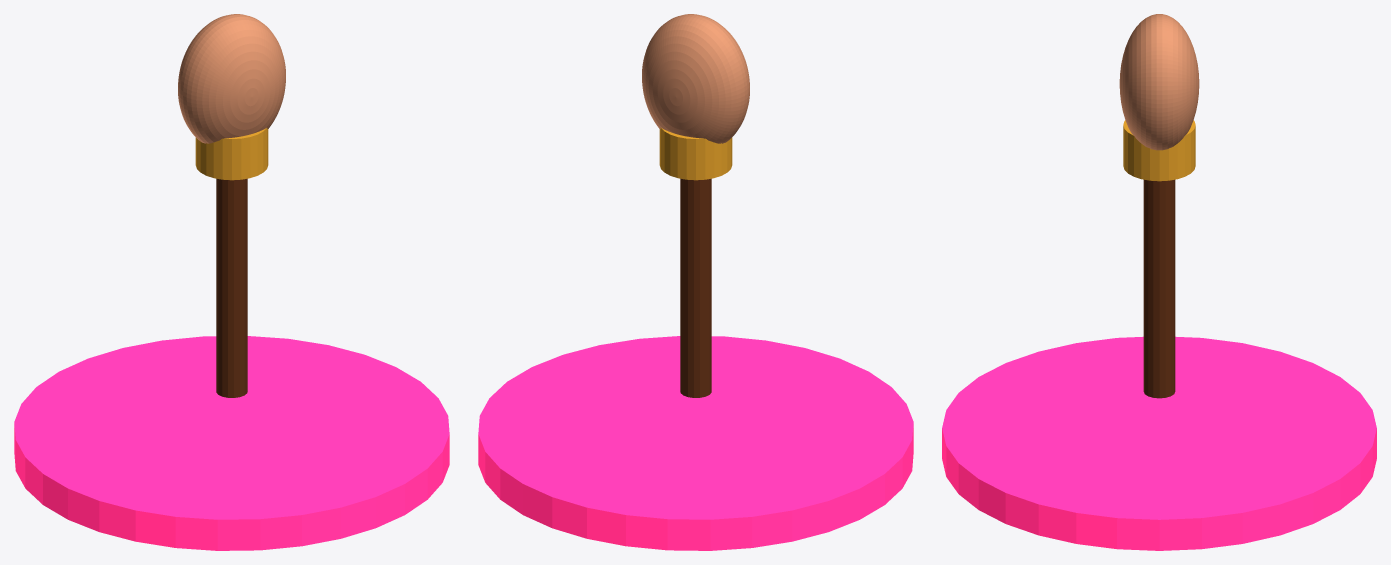
The model's file is beauty_makeup_brush.dae.
3 views of the same model, side by side, from view 1: azimuth 30°, elevation 25°; view 2: azimuth 150°, elevation 25°; view 3: azimuth 270°, elevation 25° (orthographic).
Visible parts, largest first — view 1: 03_02_Popular_Beauty_Makeup_Brush_ROOT_base, 03_02_Popular_Beauty_Makeup_Brush_part_03, 03_02_Popular_Beauty_Makeup_Brush_part_01, 03_02_Popular_Beauty_Makeup_Brush_part_02; view 2: 03_02_Popular_Beauty_Makeup_Brush_ROOT_base, 03_02_Popular_Beauty_Makeup_Brush_part_03, 03_02_Popular_Beauty_Makeup_Brush_part_01, 03_02_Popular_Beauty_Makeup_Brush_part_02; view 3: 03_02_Popular_Beauty_Makeup_Brush_ROOT_base, 03_02_Popular_Beauty_Makeup_Brush_part_03, 03_02_Popular_Beauty_Makeup_Brush_part_01, 03_02_Popular_Beauty_Makeup_Brush_part_02.
Boxes of the visible parts, x1=… form: 03_02_Popular_Beauty_Makeup_Brush_ROOT_base: x1=14, y1=336, x2=449, y2=550; 03_02_Popular_Beauty_Makeup_Brush_part_03: x1=178, y1=14, x2=285, y2=143; 03_02_Popular_Beauty_Makeup_Brush_part_01: x1=216, y1=178, x2=247, y2=397; 03_02_Popular_Beauty_Makeup_Brush_part_02: x1=195, y1=128, x2=268, y2=180; 03_02_Popular_Beauty_Makeup_Brush_ROOT_base: x1=478, y1=336, x2=913, y2=550; 03_02_Popular_Beauty_Makeup_Brush_part_03: x1=642, y1=14, x2=749, y2=143; 03_02_Popular_Beauty_Makeup_Brush_part_01: x1=680, y1=178, x2=711, y2=397; 03_02_Popular_Beauty_Makeup_Brush_part_02: x1=659, y1=128, x2=732, y2=180; 03_02_Popular_Beauty_Makeup_Brush_ROOT_base: x1=942, y1=336, x2=1376, y2=550; 03_02_Popular_Beauty_Makeup_Brush_part_03: x1=1119, y1=14, x2=1199, y2=150; 03_02_Popular_Beauty_Makeup_Brush_part_01: x1=1143, y1=179, x2=1175, y2=398; 03_02_Popular_Beauty_Makeup_Brush_part_02: x1=1123, y1=120, x2=1195, y2=181.
Bounding box in the file's own units: 0.76 × 0.85 × 0.76.
